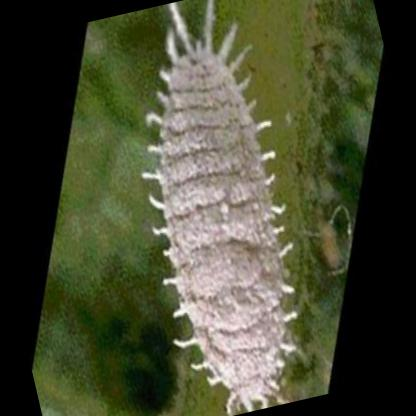mealy bug: (156, 1, 288, 411)
